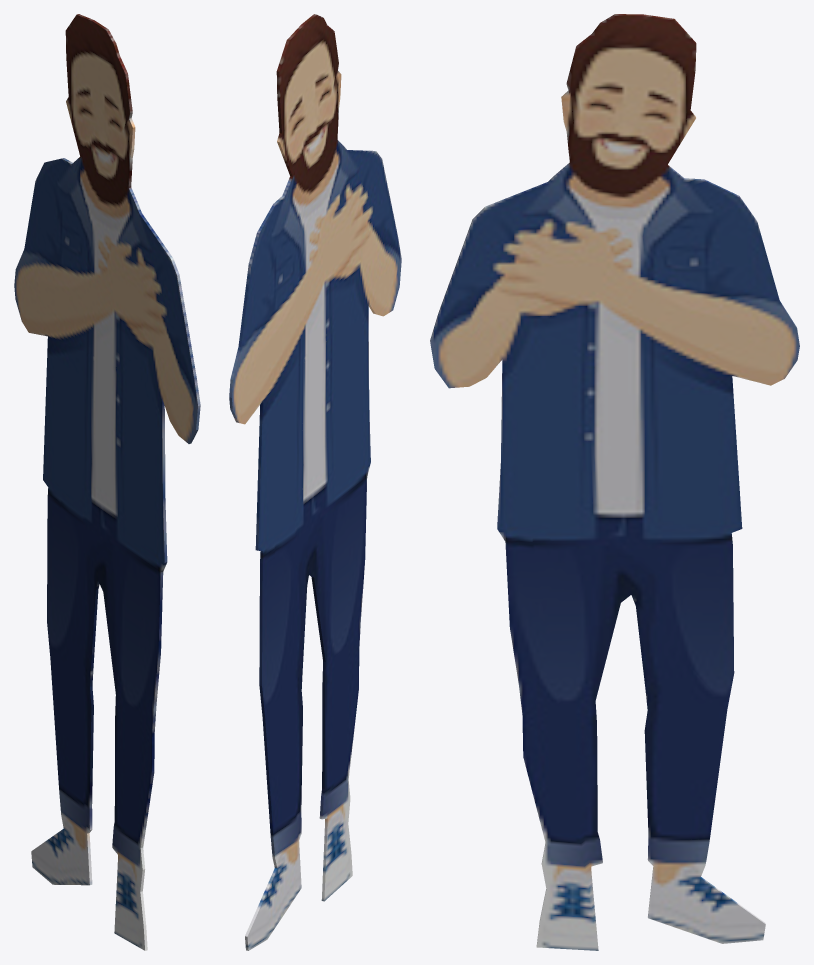
The model's file is love character icon.fbx.
The picture shows the model from 3 angles, left to right: view 1: azimuth 30°, elevation 25°; view 2: azimuth 150°, elevation 25°; view 3: azimuth 270°, elevation 25°; orthographic projection. The views are drawn at different scales.
Parts seen in each view (by area): view 1: Plane.009; view 2: Plane.009; view 3: Plane.009.
Boxes of the visible parts, left/top/right/bottom form: Plane.009: left=14, top=14, right=200, bottom=950; Plane.009: left=229, top=14, right=401, bottom=950; Plane.009: left=430, top=14, right=799, bottom=950.
Size of the model in its own units: 1.26 by 120 by 42.82.
Materials: 1 (1 with a texture image).
